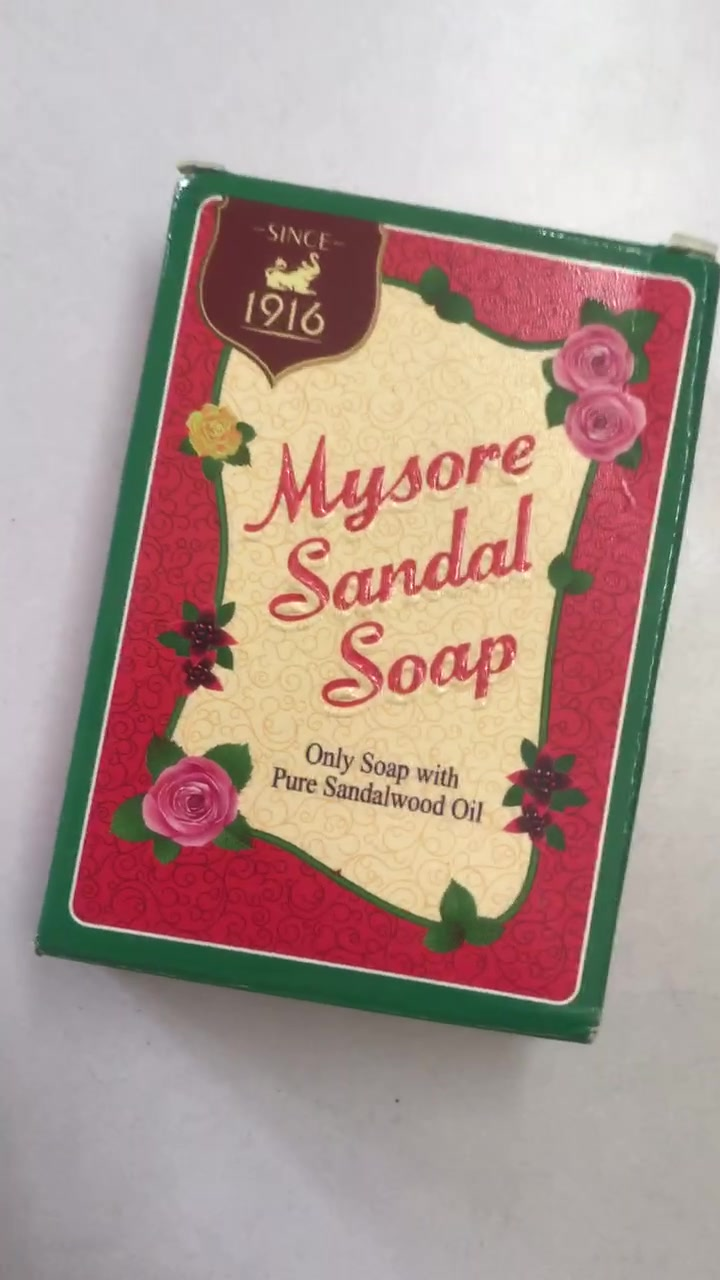mysore sandal soap: (41, 164, 720, 1036)
